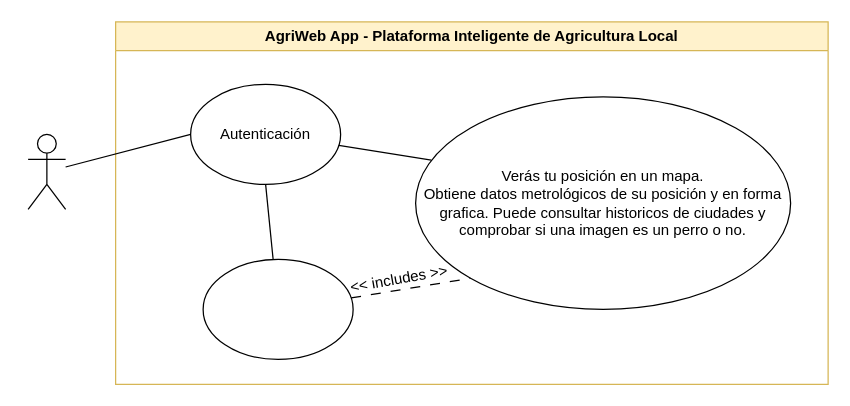
Image size: 850x406. Some labels were removed from this diagram. The box of each missing label's shape, as (x1, y1, x2, y2) in pixels:
Cerrar Sesion: (202, 258, 353, 359)
Usuario: (27, 133, 66, 209)
